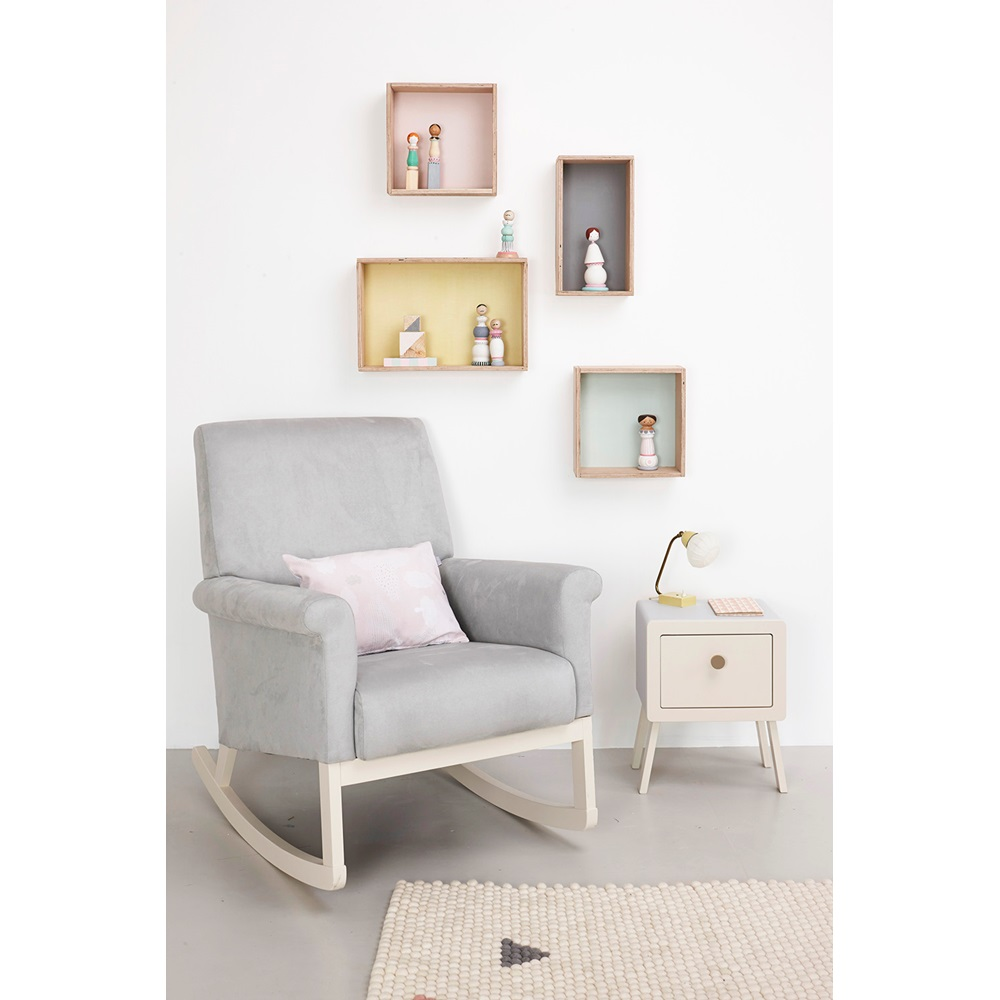chairs: (178, 403, 612, 886)
